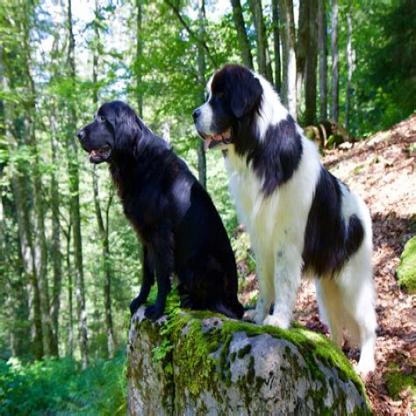dog: (193, 66, 376, 376), (76, 106, 243, 316)
